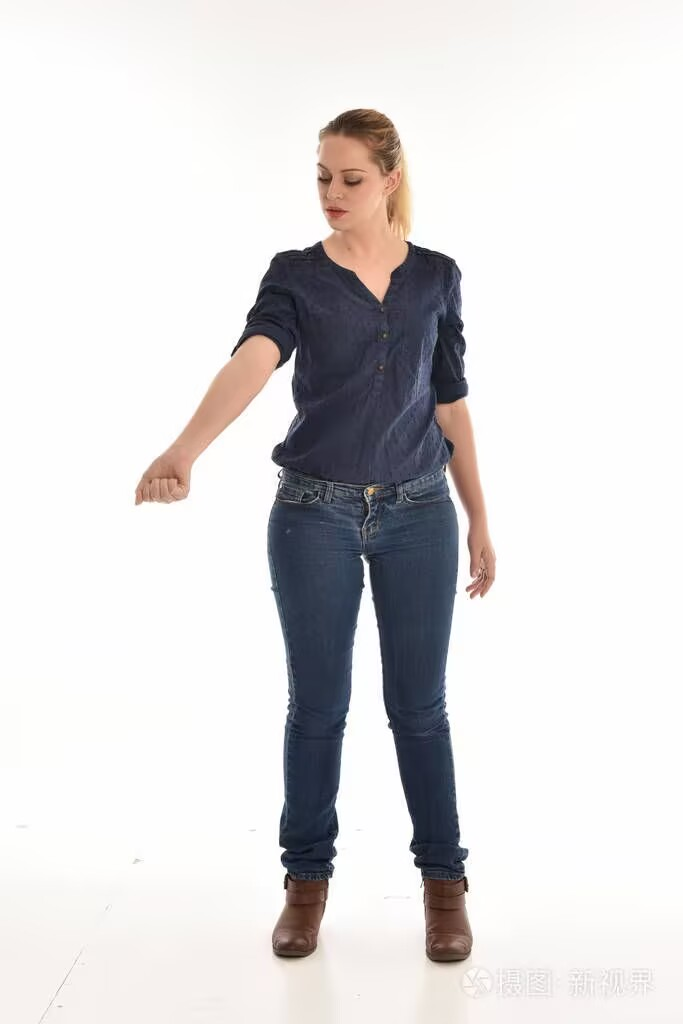up: (83, 88, 544, 979)
